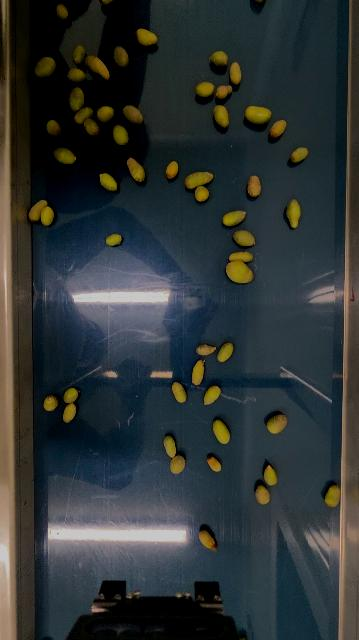Baby Potato: (225, 259, 256, 285), (85, 54, 112, 81), (126, 155, 147, 184), (183, 171, 214, 189), (34, 55, 57, 79), (266, 411, 289, 435), (286, 198, 303, 230), (245, 105, 272, 125), (213, 418, 232, 446), (28, 198, 48, 224), (112, 44, 132, 69), (68, 85, 86, 112), (122, 104, 145, 125), (135, 27, 159, 47), (53, 146, 77, 166), (222, 209, 247, 228), (73, 105, 95, 125), (199, 528, 218, 551), (247, 173, 263, 200), (213, 104, 231, 128), (325, 483, 342, 508), (99, 171, 119, 192), (203, 384, 222, 406), (234, 229, 256, 248), (217, 341, 235, 364), (191, 359, 206, 386), (269, 118, 288, 139), (112, 124, 129, 147), (263, 463, 279, 487), (195, 80, 216, 98), (255, 484, 272, 506), (171, 381, 188, 403), (228, 250, 256, 263), (95, 105, 115, 123), (290, 146, 310, 164), (229, 60, 243, 85), (163, 434, 178, 457), (40, 205, 55, 228), (210, 50, 230, 67), (170, 454, 187, 474), (62, 402, 78, 423), (46, 119, 63, 138), (84, 117, 101, 136), (72, 43, 86, 66), (214, 83, 234, 99), (63, 386, 80, 404), (42, 394, 59, 412), (67, 67, 86, 83), (194, 185, 211, 202), (196, 343, 218, 356), (55, 2, 70, 21), (165, 160, 179, 180), (206, 455, 222, 472), (105, 232, 122, 247), (97, 0, 122, 5), (252, 0, 268, 3)
